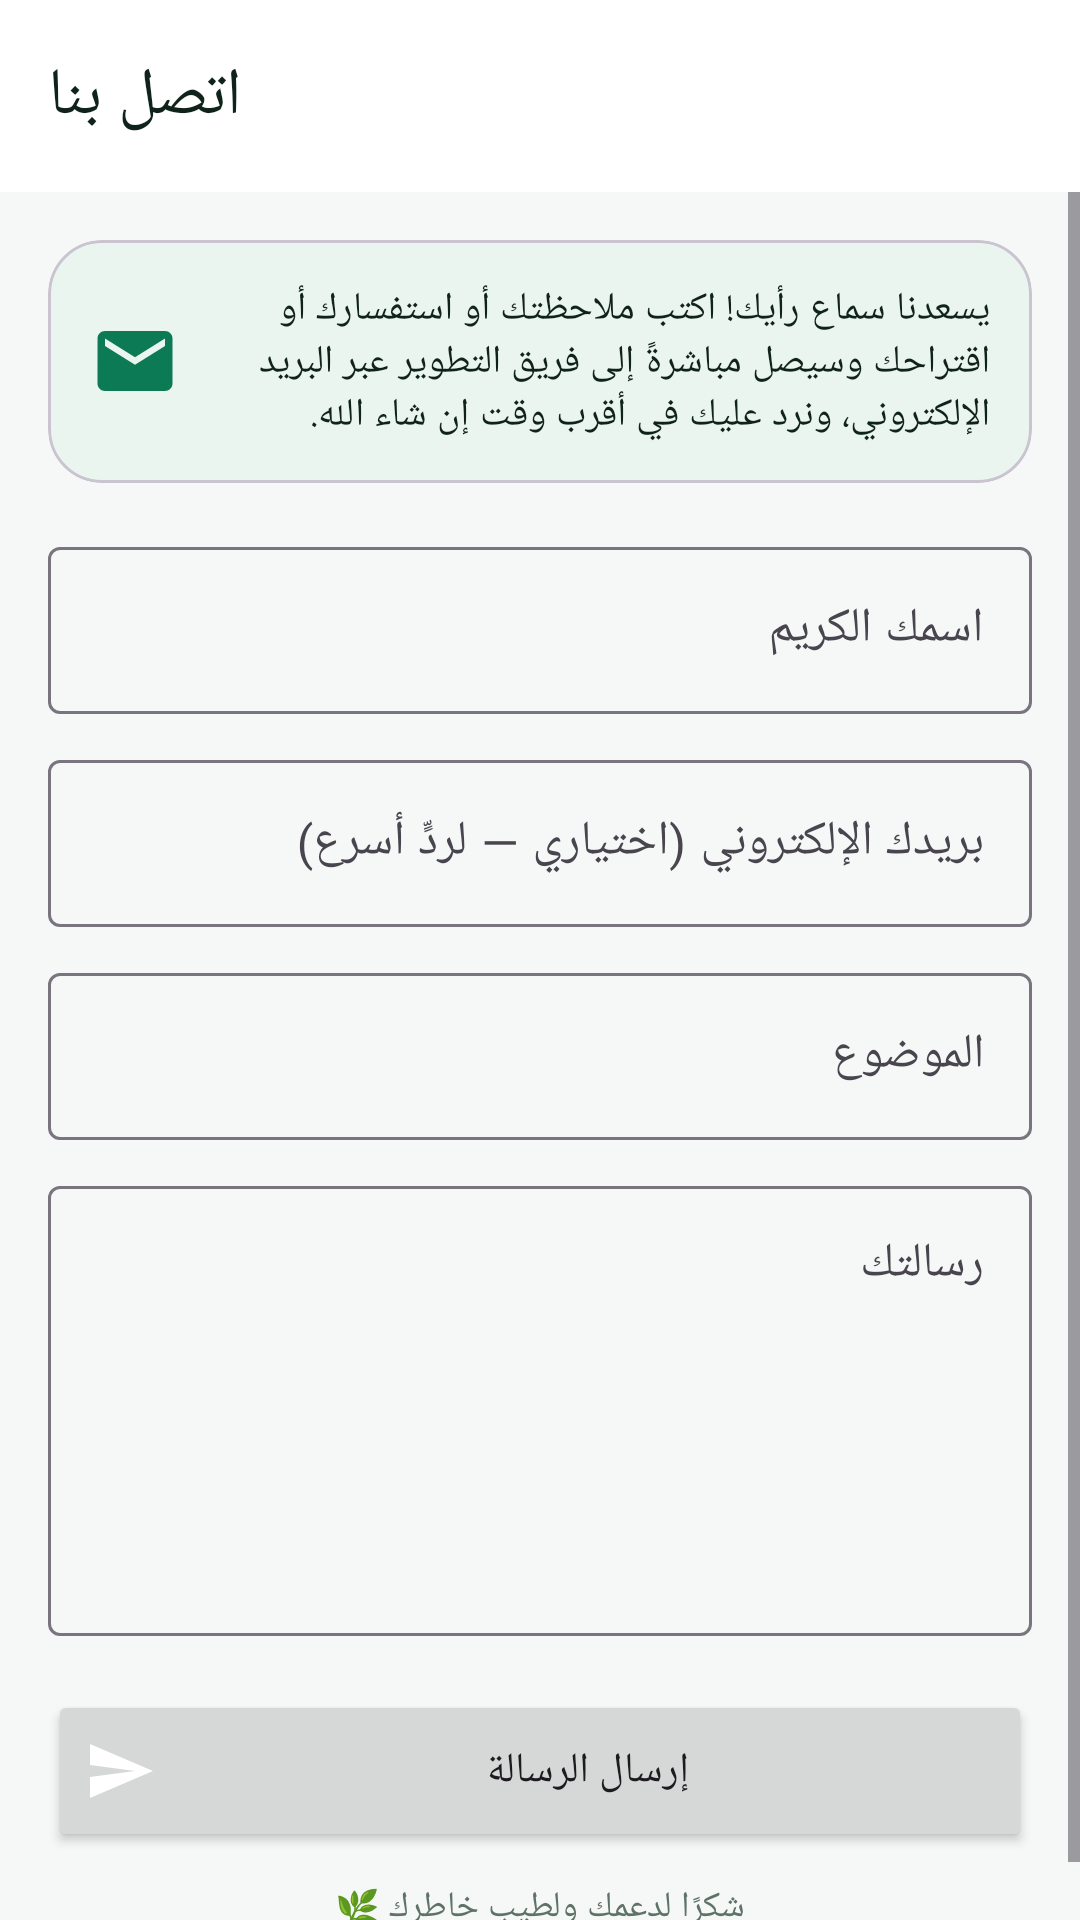

Screen size 1080px x 1920px. Icon name, then its box in pixels as box(x1, y1, x2, y2):
contact: box(97, 331, 173, 391)
